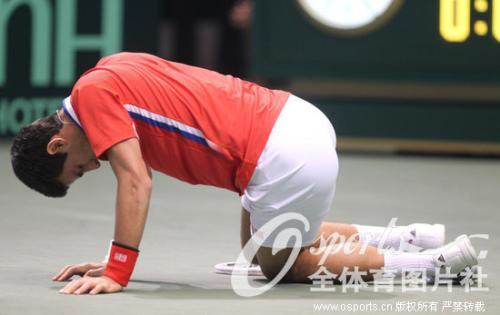bending: (7, 48, 472, 292)
